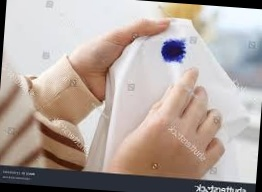ink: (160, 38, 187, 65)
